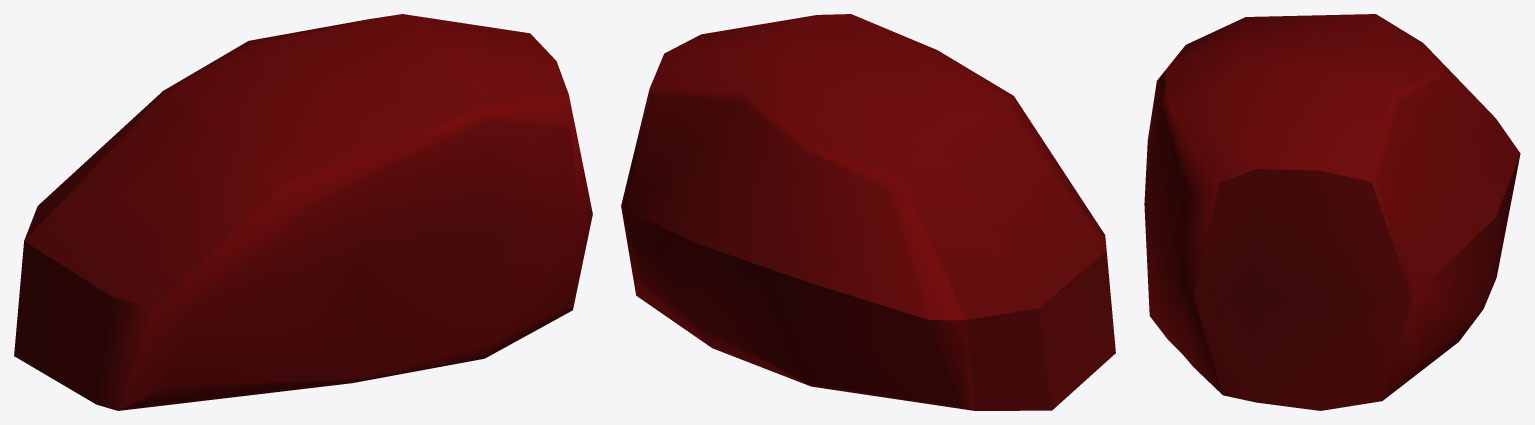
File: geology-pebbles-sharppebble_v5.fbx
3 renders of one model, left to right at view 1: azimuth 30°, elevation 25°; view 2: azimuth 150°, elevation 25°; view 3: azimuth 270°, elevation 25°, orthographic. The views are drawn at different scales.
Parts seen in each view (by area): view 1: SharpPebble_v5; view 2: SharpPebble_v5; view 3: SharpPebble_v5.
Part boxes in pixels (x1=…): SharpPebble_v5: x1=14, y1=14, x2=592, y2=410; SharpPebble_v5: x1=621, y1=14, x2=1115, y2=410; SharpPebble_v5: x1=1144, y1=14, x2=1520, y2=410.
Bounding box in the file's own units: 9.73 × 5.54 × 6.82.
